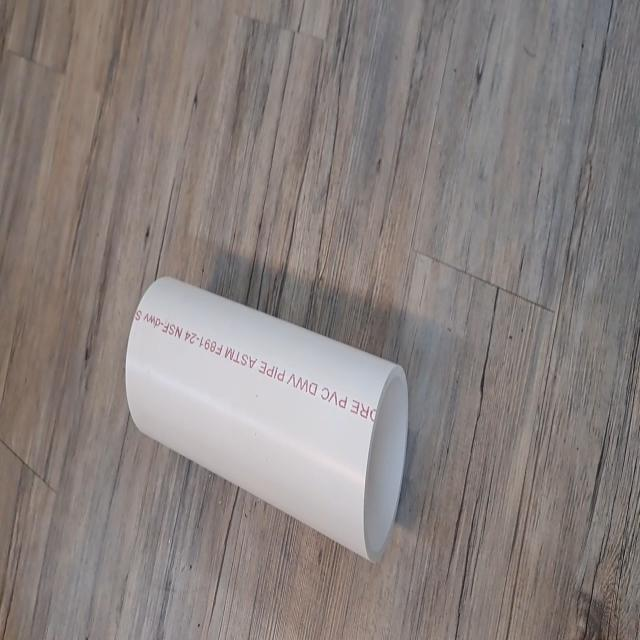CORAL: (121, 276, 411, 568)
